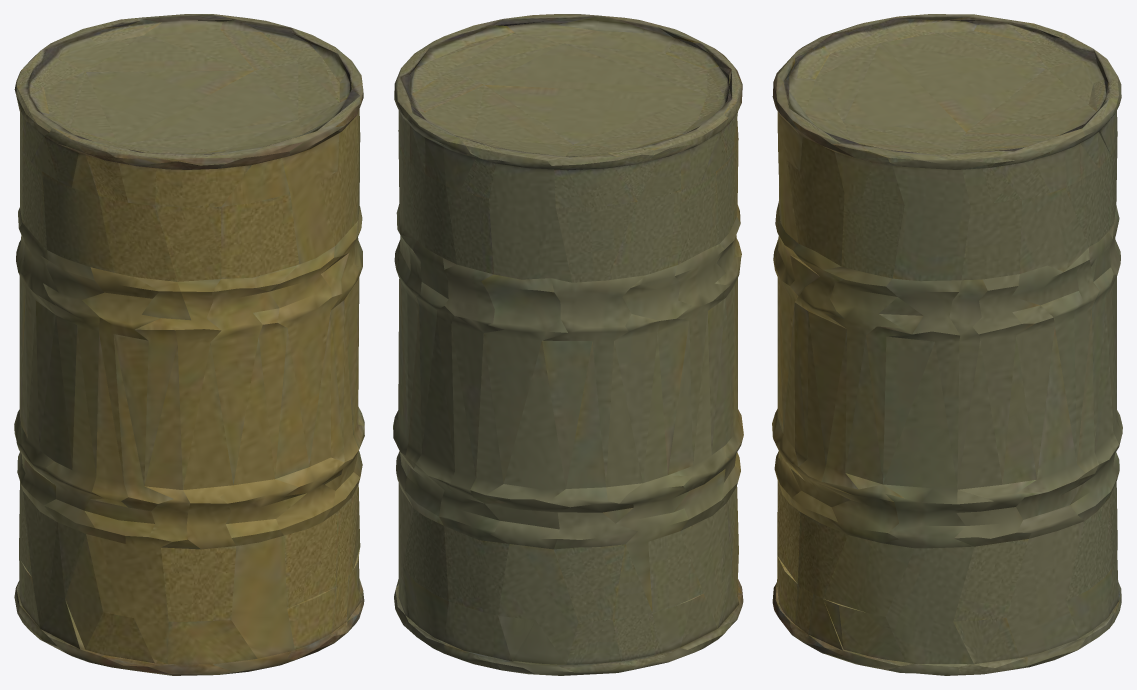
Rendered from bidones.glb.
3 views of the same model, side by side, from view 1: azimuth 30°, elevation 25°; view 2: azimuth 150°, elevation 25°; view 3: azimuth 270°, elevation 25° (orthographic).
Bounding box in the file's own units: 1.17 × 1.9 × 1.17.
Materials: 1 (1 with a texture image).
